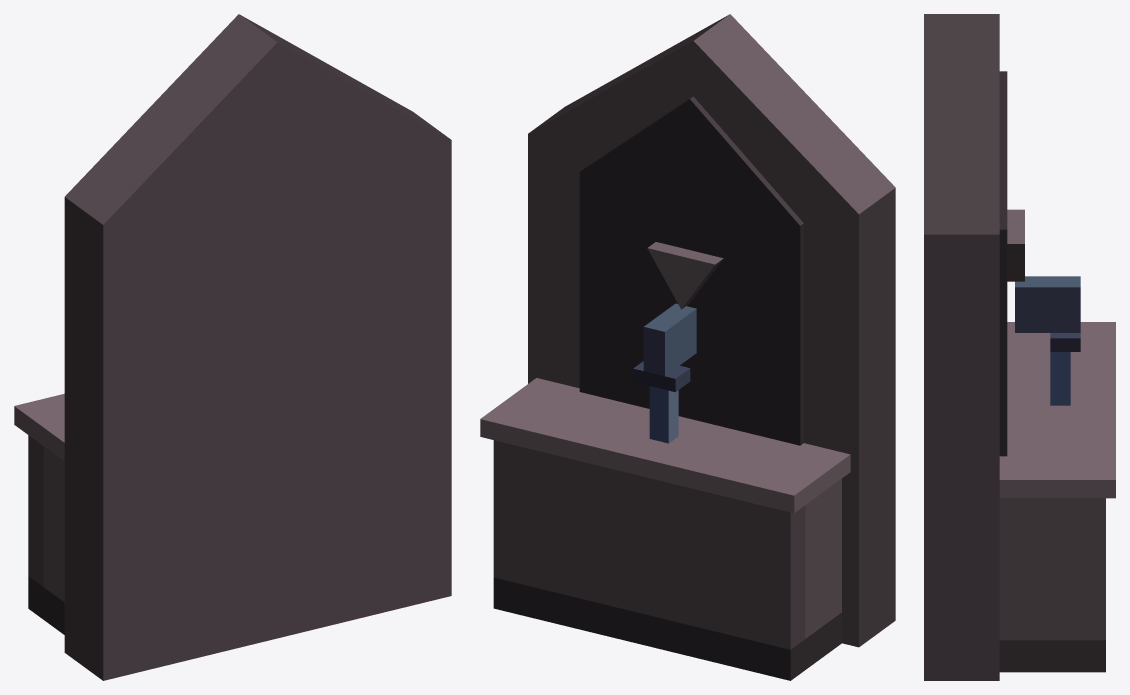
The model's file is brunnen_b_bereit.glb.
The picture shows the model from 3 angles, left to right: view 1: azimuth 30°, elevation 25°; view 2: azimuth 150°, elevation 25°; view 3: azimuth 270°, elevation 25°; orthographic projection. The views are drawn at different scales.
Visible parts, largest first — view 1: brunnen; view 2: brunnen; view 3: brunnen.
Boxes of the visible parts, bbox=[...] form: brunnen: bbox=[14, 14, 451, 680]; brunnen: bbox=[480, 14, 895, 680]; brunnen: bbox=[924, 14, 1115, 680].
Size of the model in its own units: 1.56 by 2.55 by 0.76.
